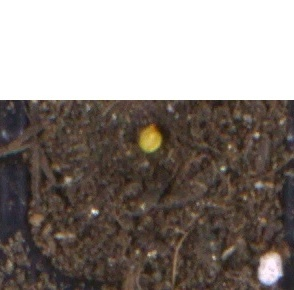chilli seed: (137, 123, 163, 154)
